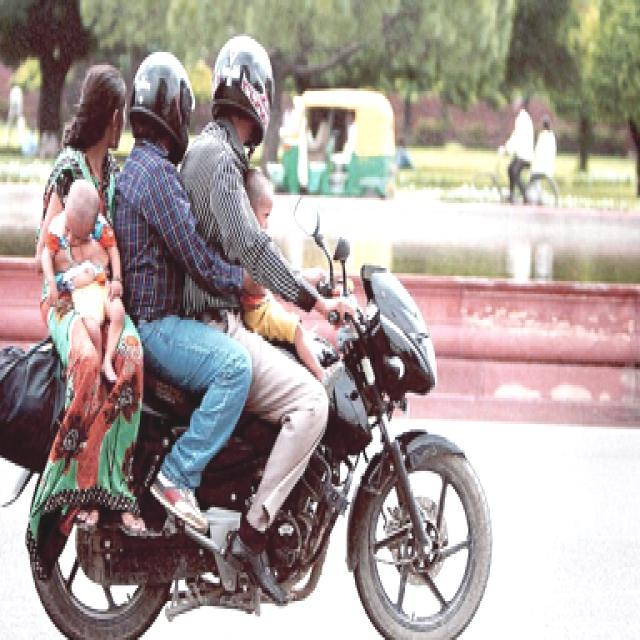Helmet: (208, 26, 284, 141), (128, 50, 200, 154)
